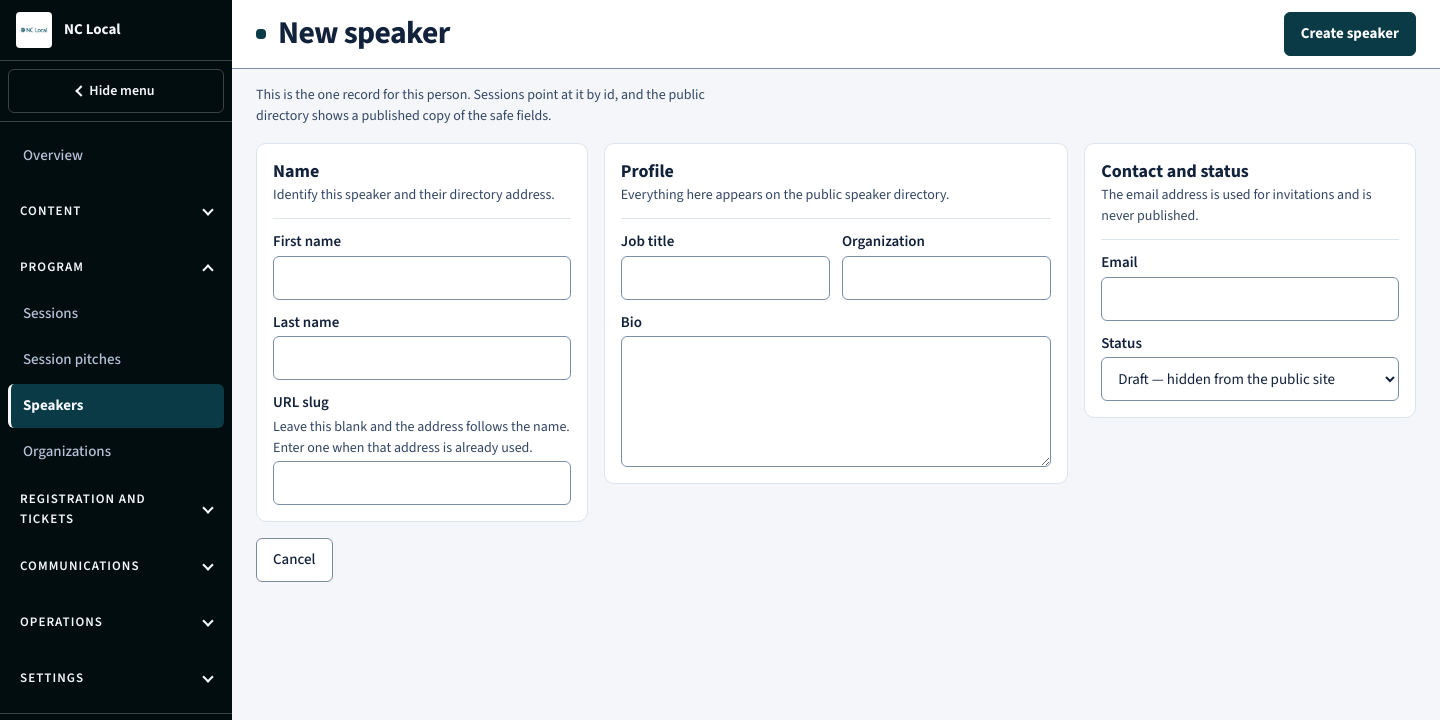
Test case: speaker editor › opens the new speaker's own editor after a create
The width and height of the screenshot is (1440, 720).
Type "Rae" into the field labelled "First name".
click(422, 278); type("Rae")  # box [273,256,571,300]
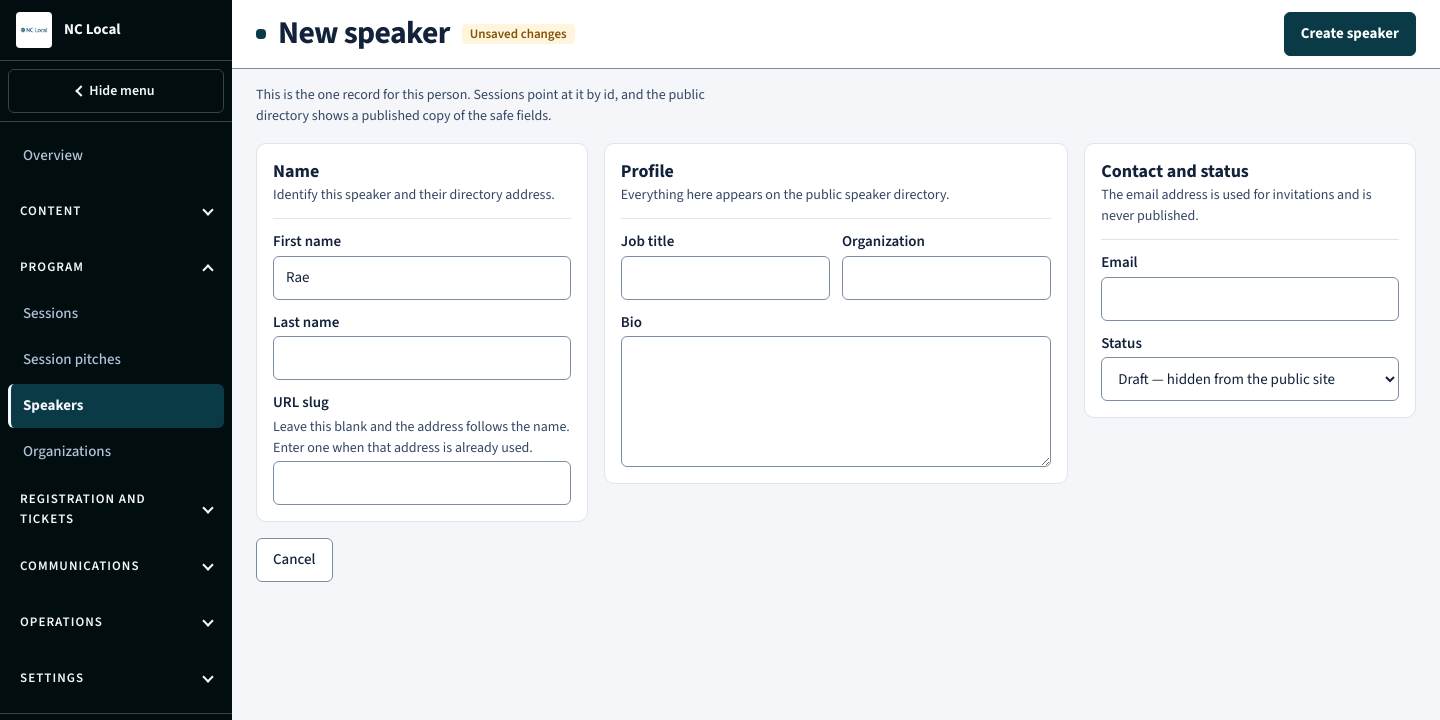
Type "Okonkwo" into the field labelled "Last name".
click(422, 358); type("Okonkwo")  # box [273,336,571,380]
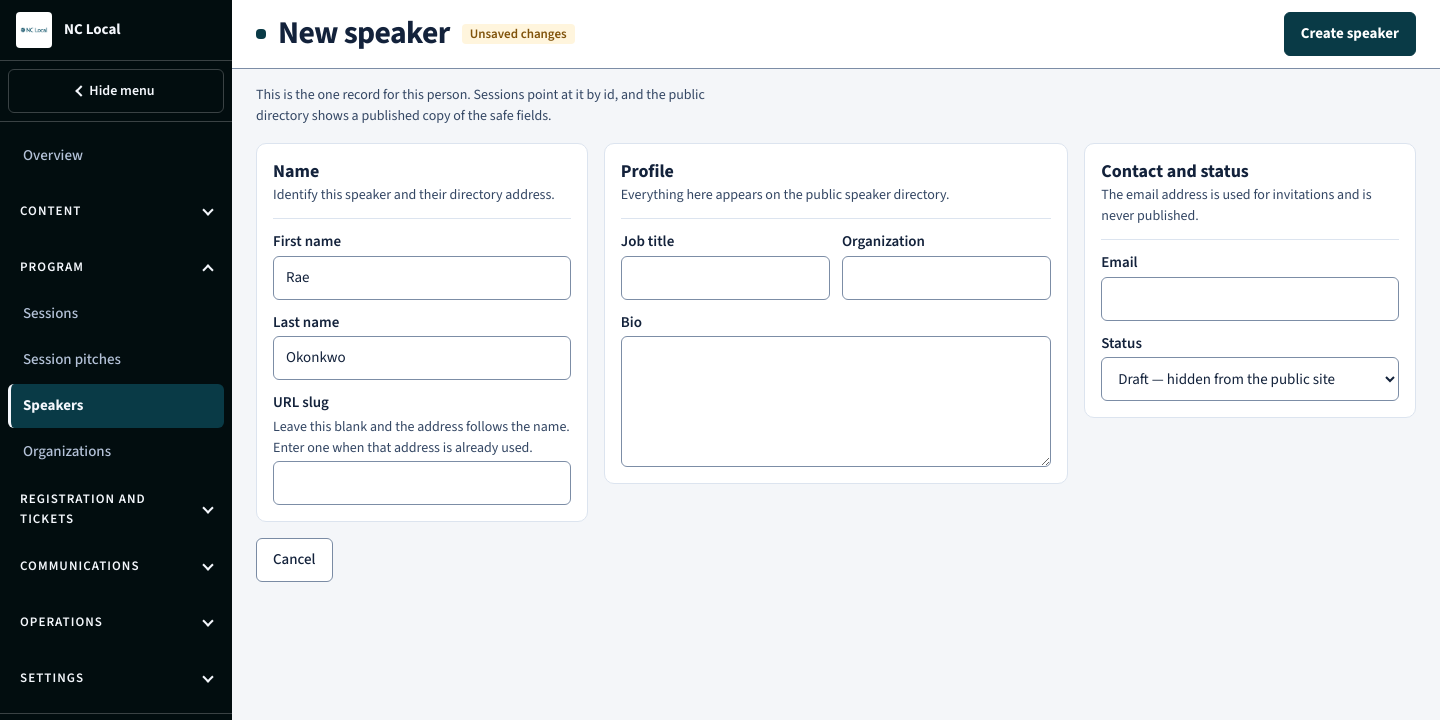
Click the button "Create speaker".
click(1350, 34)  # box [1284,12,1416,56]
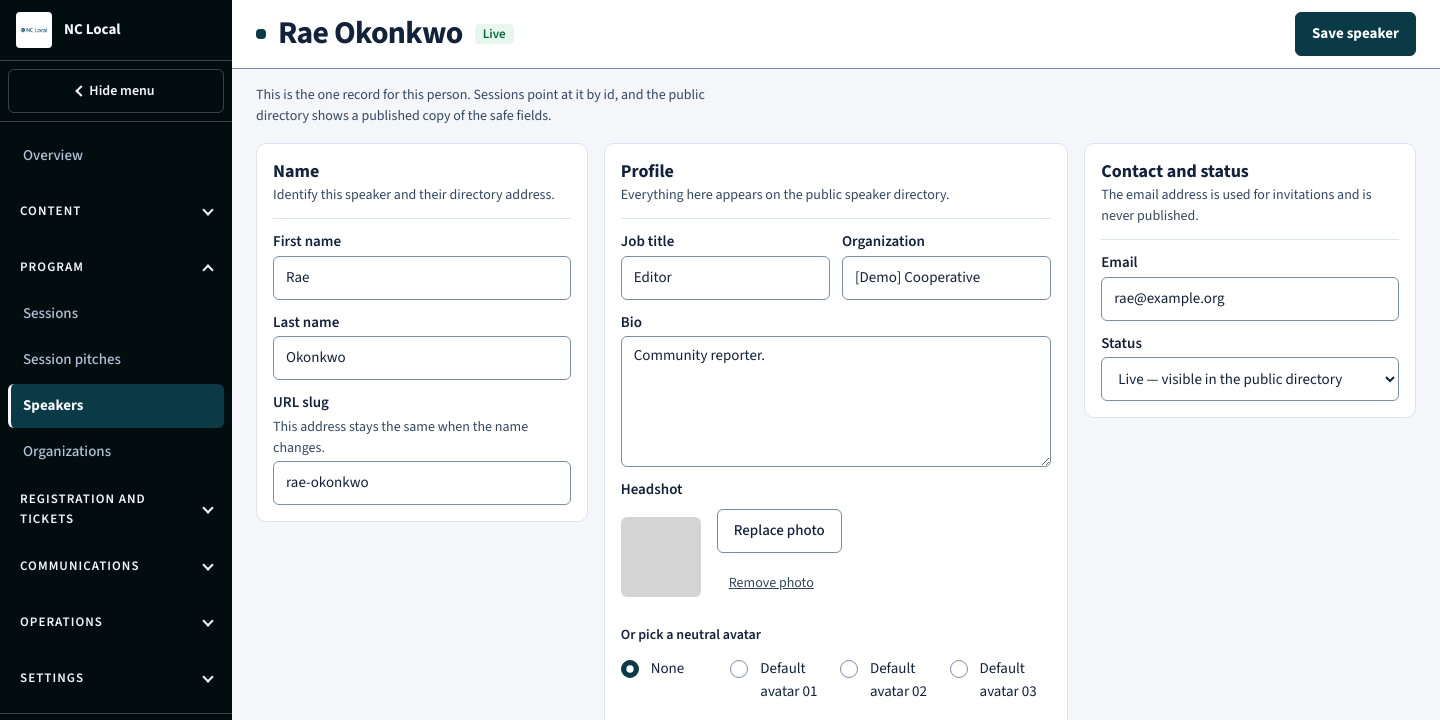
Check: the text box labelled "Bio" holds "Community reporter.", box [621,336,1051,467]
